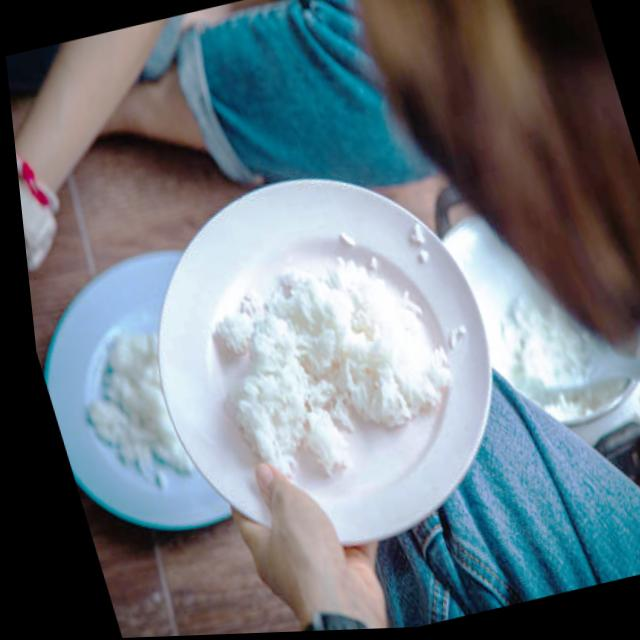rice: (187, 212, 502, 493), (61, 316, 203, 502)
